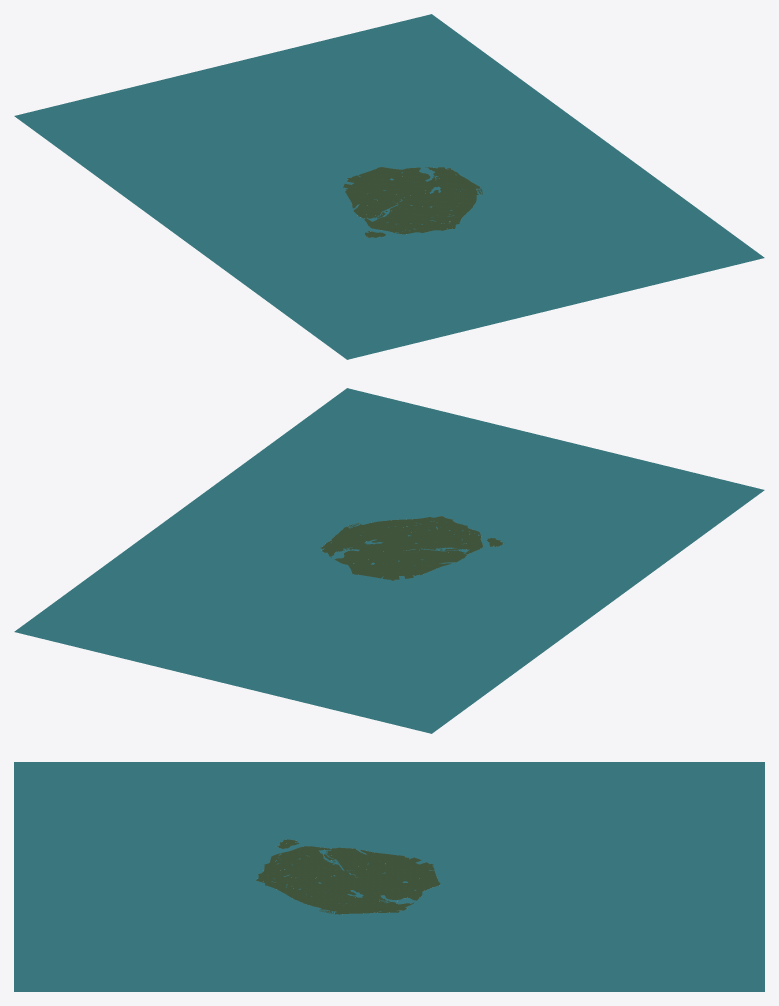
File: terrain.glb
3 views of the same model, one above another, from view 1: azimuth 30°, elevation 25°; view 2: azimuth 150°, elevation 25°; view 3: azimuth 270°, elevation 25° (orthographic). The views are drawn at different scales.
Visible parts, largest first — view 1: terrain_water, terrain_land, terrain_park; view 2: terrain_water, terrain_land, terrain_park; view 3: terrain_water, terrain_land, terrain_park.
Part boxes in pixels (x1=…): terrain_water: x1=14, y1=14, x2=764, y2=359; terrain_land: x1=343, y1=167, x2=482, y2=237; terrain_park: x1=350, y1=167, x2=479, y2=237; terrain_water: x1=14, y1=388, x2=764, y2=733; terrain_land: x1=320, y1=516, x2=503, y2=580; terrain_park: x1=323, y1=517, x2=503, y2=579; terrain_water: x1=14, y1=762, x2=764, y2=991; terrain_land: x1=256, y1=839, x2=439, y2=914; terrain_park: x1=258, y1=839, x2=440, y2=913.
Bounding box in the file's own units: 26800 × 0.5162 × 37014.
5 materials, 3 textured.
